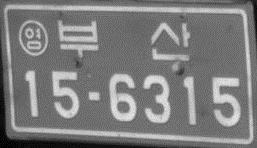-: (84, 89, 103, 103)
1: (22, 67, 45, 118), (180, 74, 199, 125)
3: (141, 73, 173, 125)
5: (49, 69, 82, 121), (210, 74, 242, 127)
6: (107, 72, 138, 121)
부산_D: (54, 17, 193, 62)
영: (17, 19, 49, 58)
